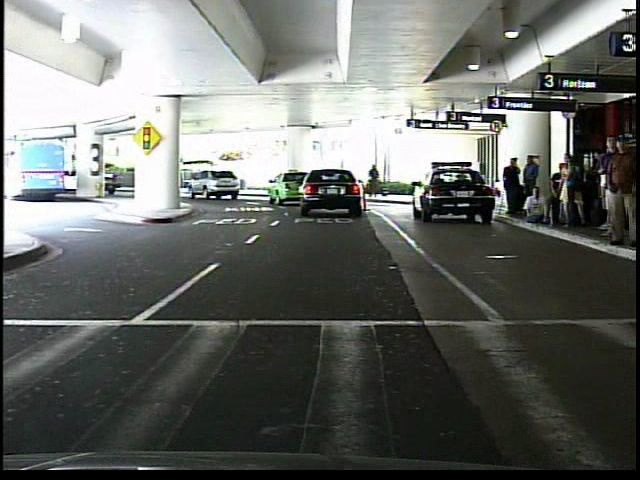person: (602, 129, 640, 246), (501, 155, 523, 218), (522, 153, 544, 197), (368, 162, 383, 202)
